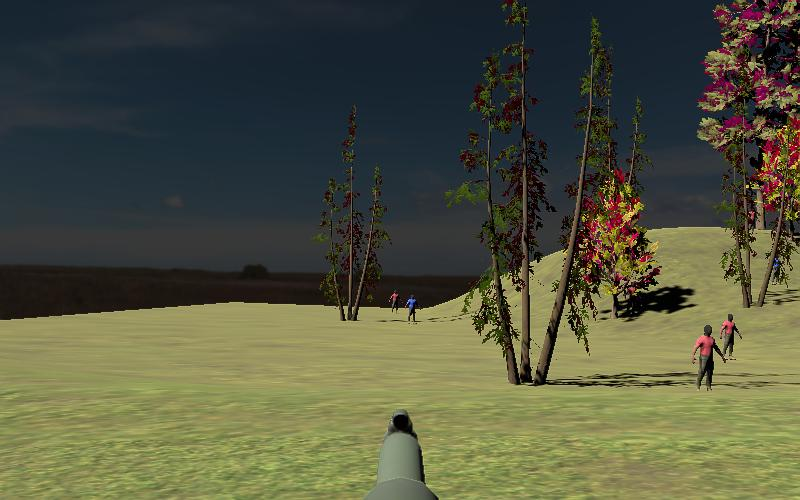Human: (692, 324, 725, 392), (720, 313, 742, 362), (405, 292, 421, 325), (388, 288, 401, 314)
